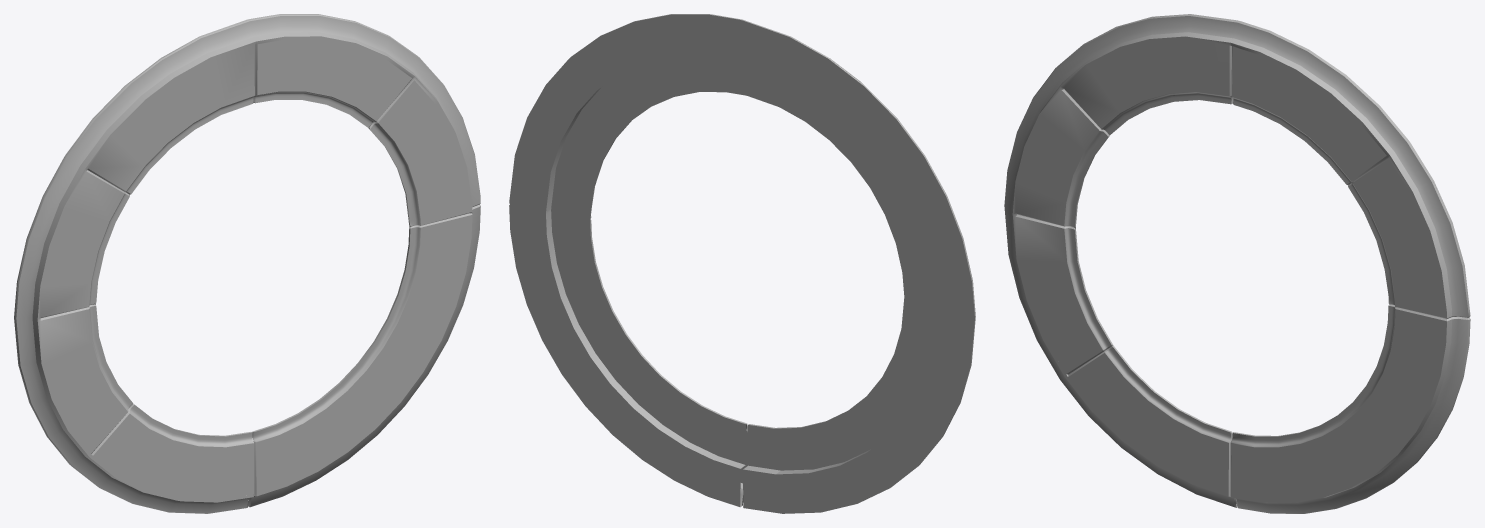
File: Vd_Vulgrim_Platform.fbx
3 views of the same model, side by side, from view 1: azimuth 30°, elevation 25°; view 2: azimuth 150°, elevation 25°; view 3: azimuth 330°, elevation 25° (orthographic).
Visible parts, largest first — view 1: Vd_Vulgrim_Platform; view 2: Vd_Vulgrim_Platform; view 3: Vd_Vulgrim_Platform.
Boxes of the visible parts, left/top/right/bottom form: Vd_Vulgrim_Platform: left=14, top=14, right=480, bottom=513; Vd_Vulgrim_Platform: left=509, top=14, right=975, bottom=513; Vd_Vulgrim_Platform: left=1004, top=14, right=1470, bottom=513.
Bounding box in the file's own units: 2317 × 2317 × 69.54.
